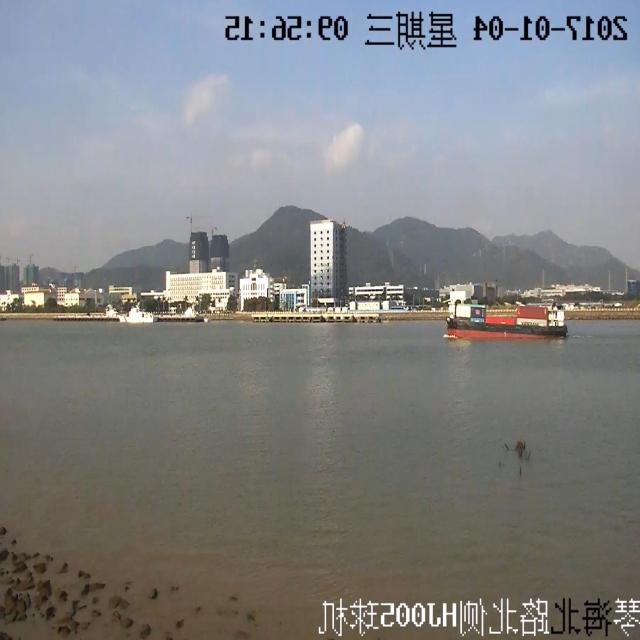cargoship: (434, 274, 575, 360)
